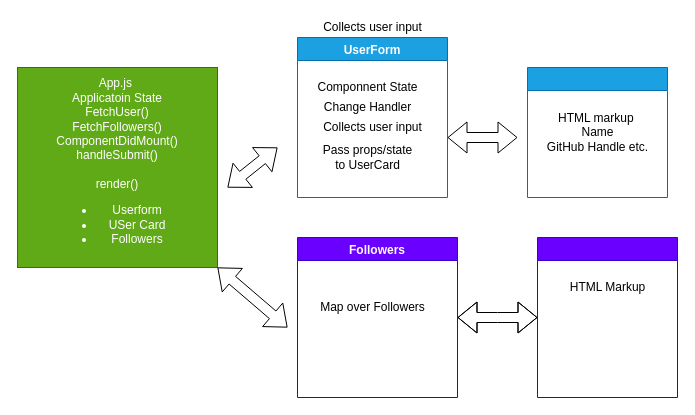
Image size: 695x415. Some labels were removed from this diagram. Each missing label, with the box of its shape:
Followers Card: (536, 236, 678, 398)
UserCard: (526, 66, 668, 198)
